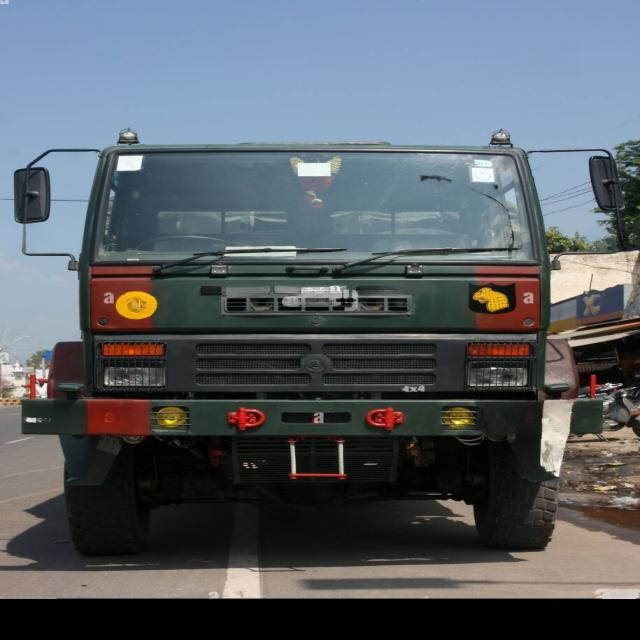truck: (13, 130, 623, 555), (21, 131, 602, 555)
